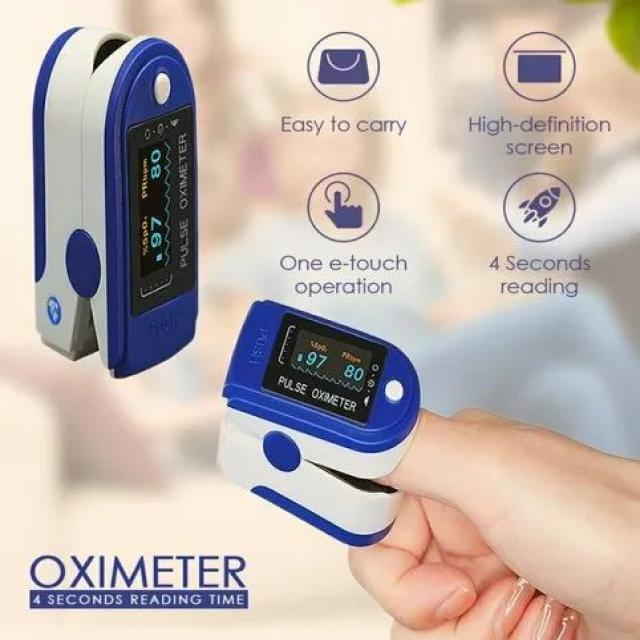oximeter: (216, 273, 436, 552)
